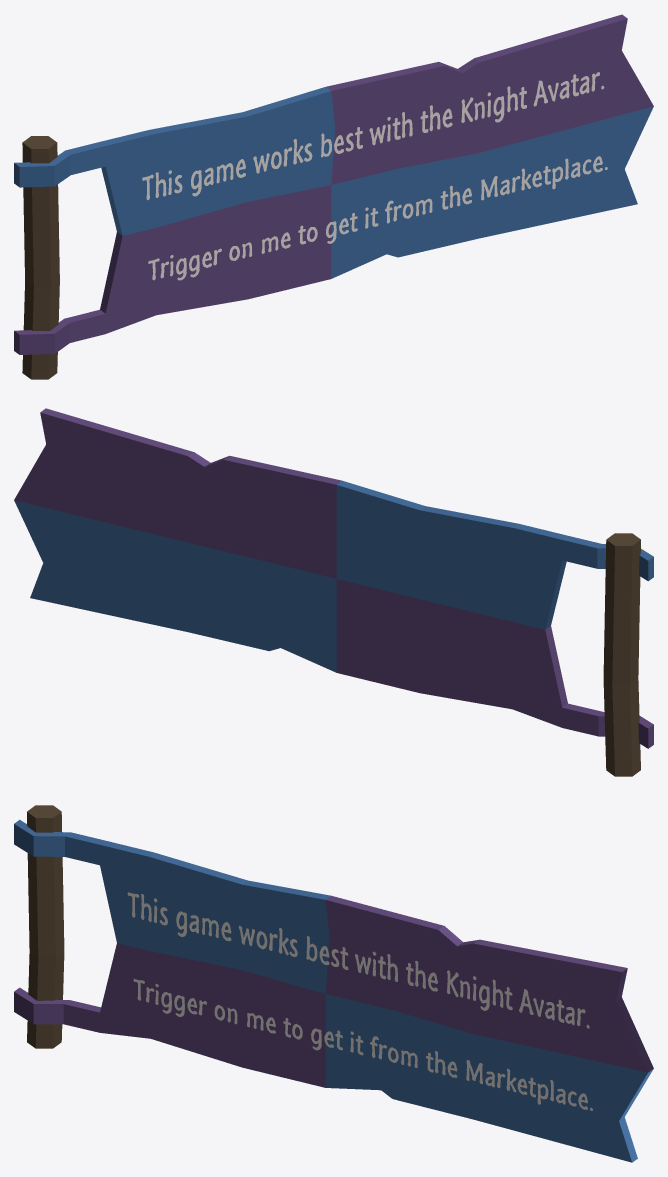
Rendered from knight_sign_1.fbx.
3 renders of one model, top to bottom at view 1: azimuth 30°, elevation 25°; view 2: azimuth 150°, elevation 25°; view 3: azimuth 330°, elevation 25°, orthographic.
Visible parts, largest first — view 1: SM_Prop_Banner_01; view 2: SM_Prop_Banner_01; view 3: SM_Prop_Banner_01.
Boxes of the visible parts, x1,y1,x2,y2 form: SM_Prop_Banner_01: [14, 14, 653, 379]; SM_Prop_Banner_01: [14, 408, 653, 776]; SM_Prop_Banner_01: [14, 805, 653, 1162].
Bounding box in the file's own units: 346 × 120 × 20.26.
2 materials, 1 textured.
